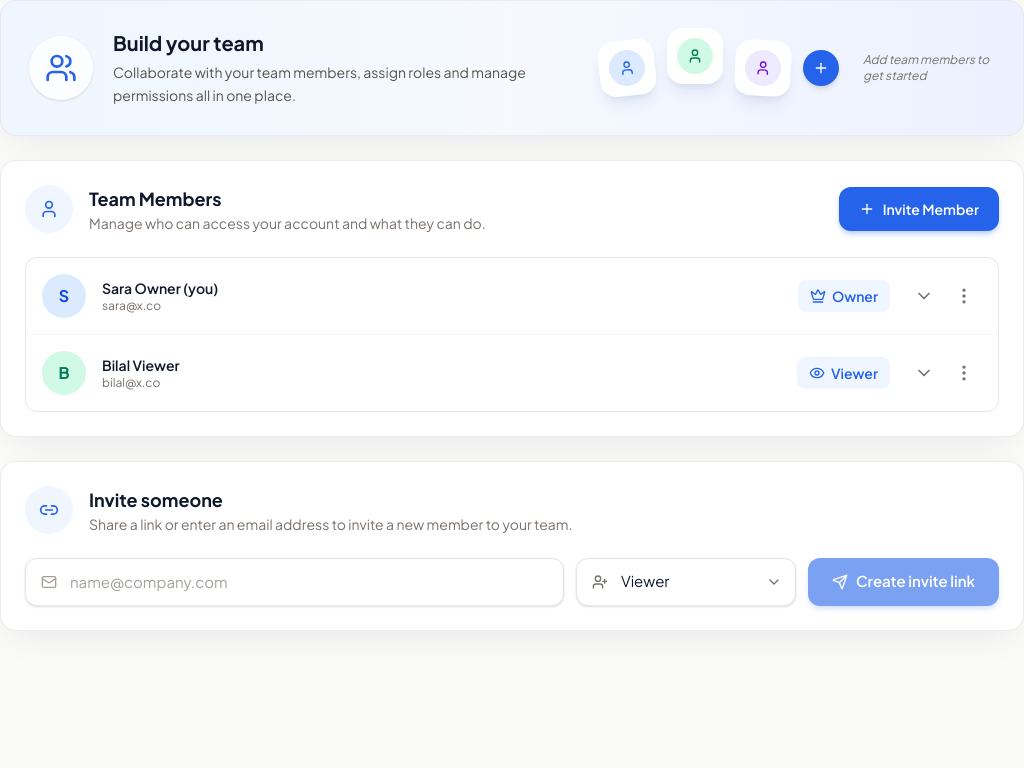
Test case: TeamPanel › creates an invite and shows the link once
In the field named "Invite email": (294, 582) top-left (25, 558), bottom-right (564, 606), type "new@x.co"
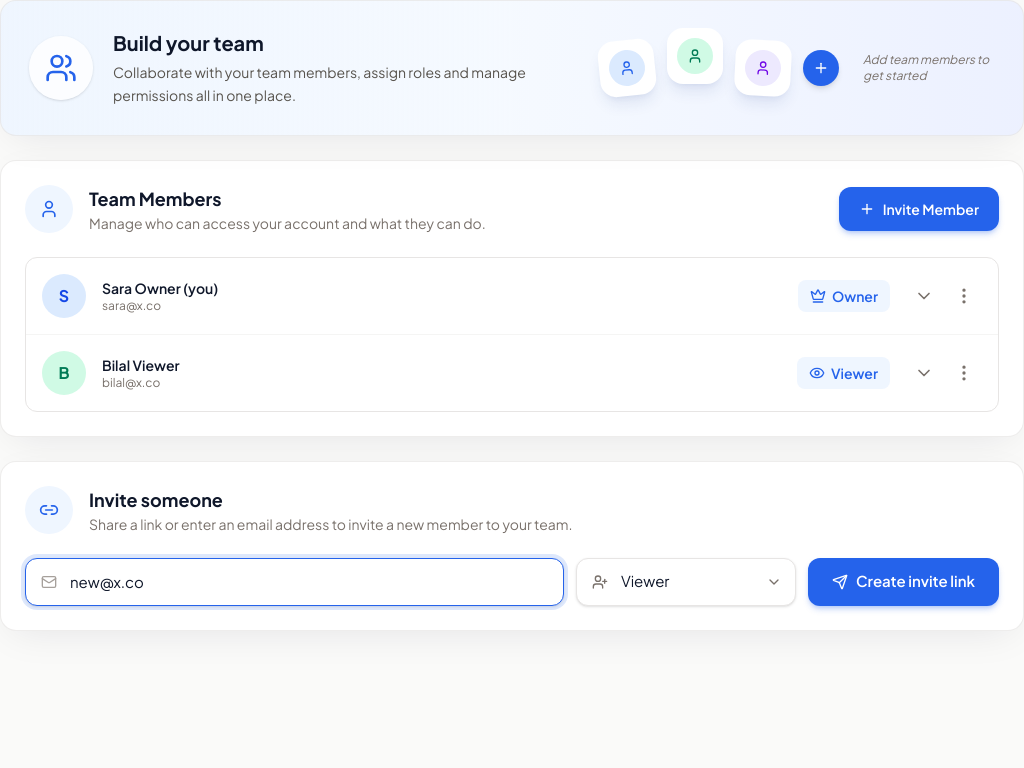
Select "Estimator" in the dropdown named "Invite role": (686, 582) top-left (576, 558), bottom-right (796, 606)
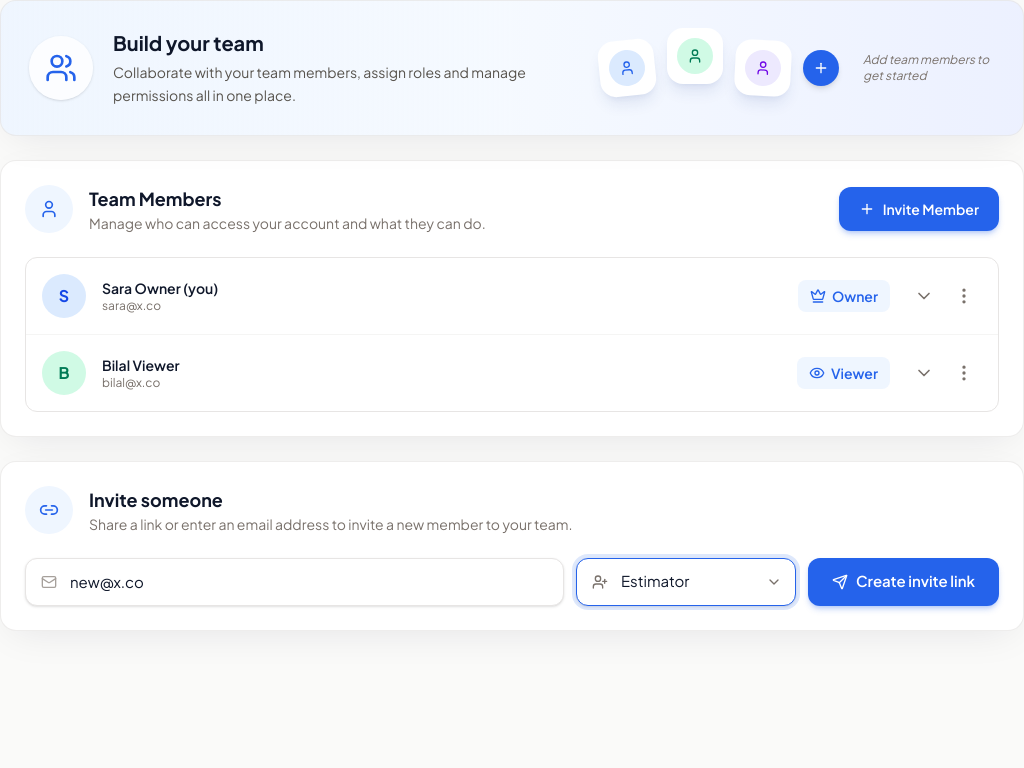
Click the button "Create invite link": click(903, 582) top-left (808, 558), bottom-right (999, 606)
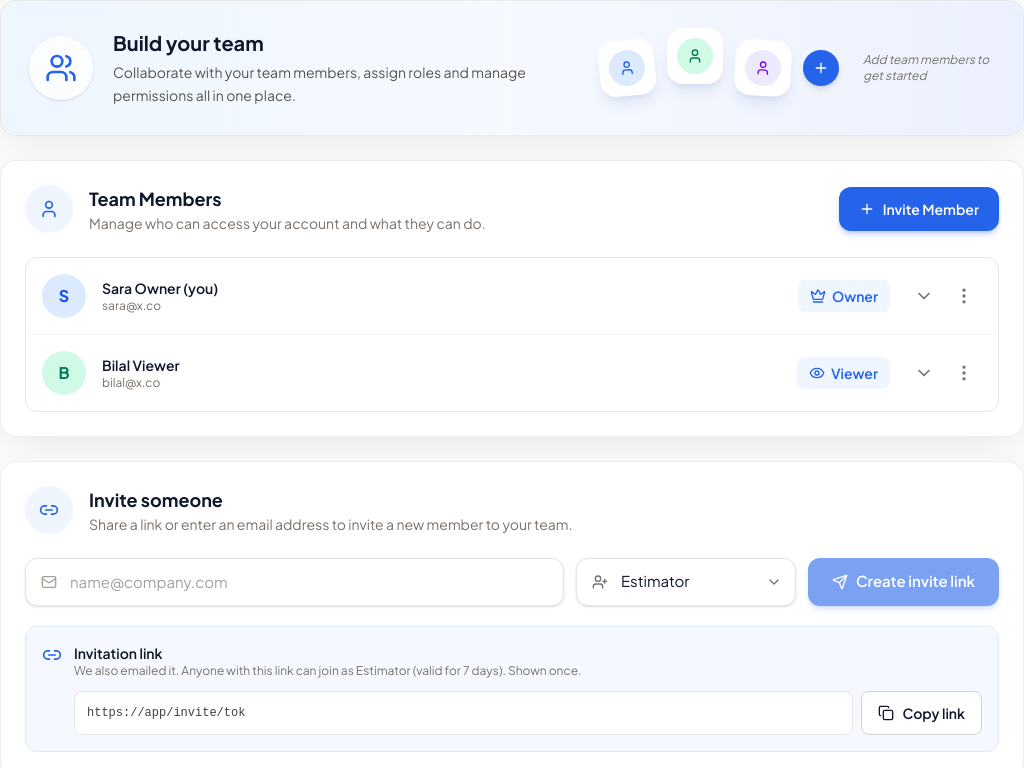
Result: the field named "Invitation link" holds "https://app/invite/tok" at top-left (74, 690), bottom-right (854, 734)
Result: the text "We also emailed it" is shown at top-left (74, 662), bottom-right (181, 678)
Result: the field named "Invite email" is empty at top-left (25, 558), bottom-right (564, 606)
